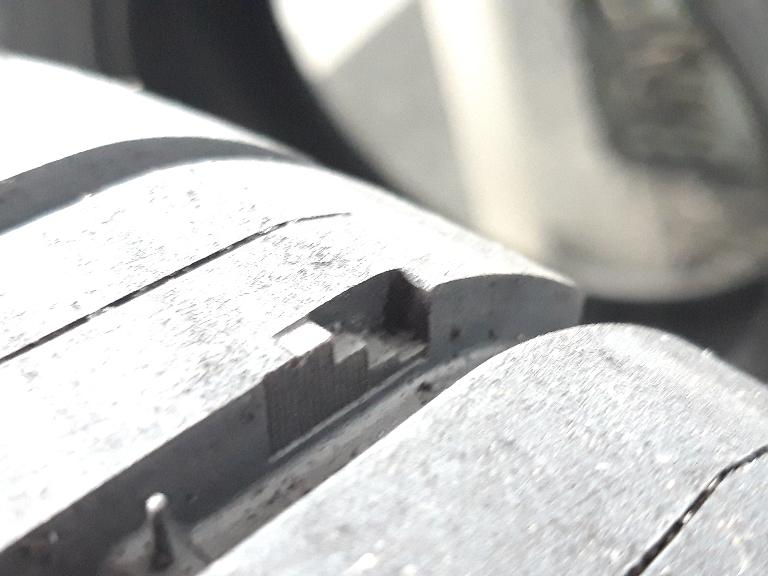temoin:75: (263, 260, 451, 439)
